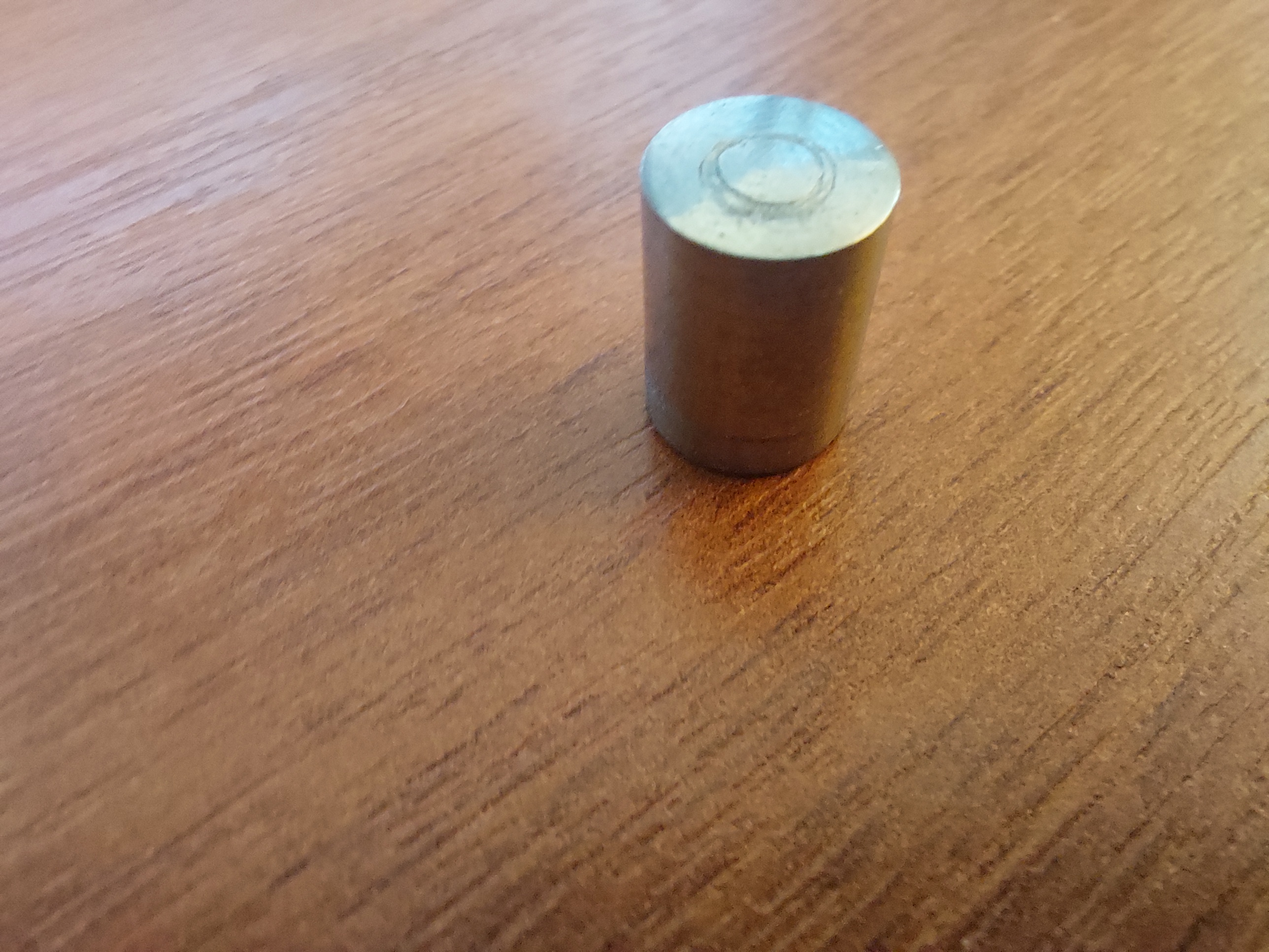tablet: (590, 57, 956, 527)
